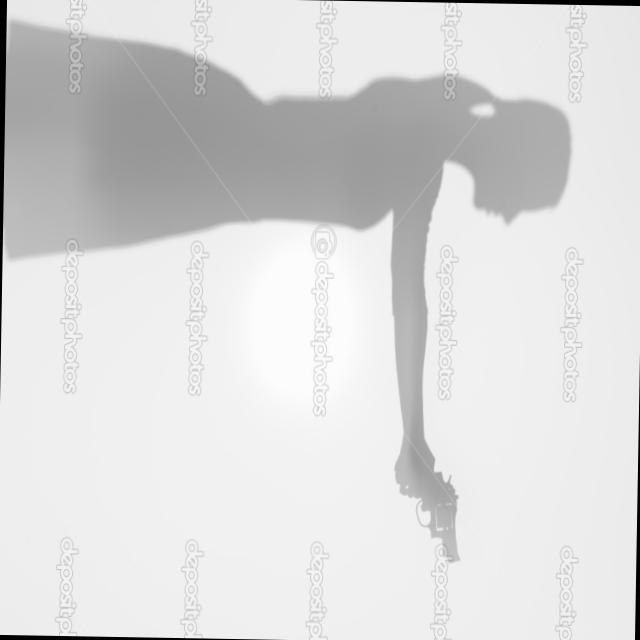handgun: (392, 453, 468, 571)
